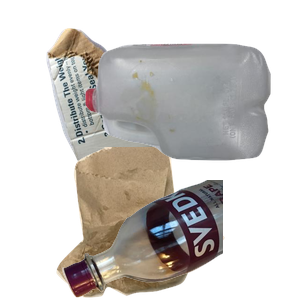cardboard: (44, 26, 209, 186)
glass: (60, 180, 300, 300)
plastic: (83, 41, 300, 194)
trash: (54, 147, 271, 300)
